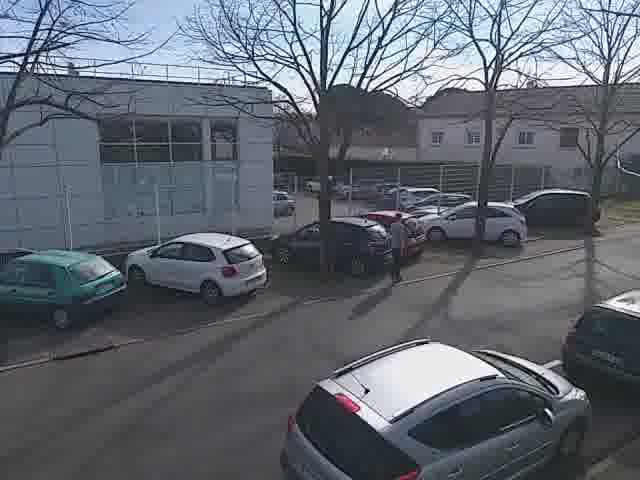persona: (375, 201, 413, 286)
